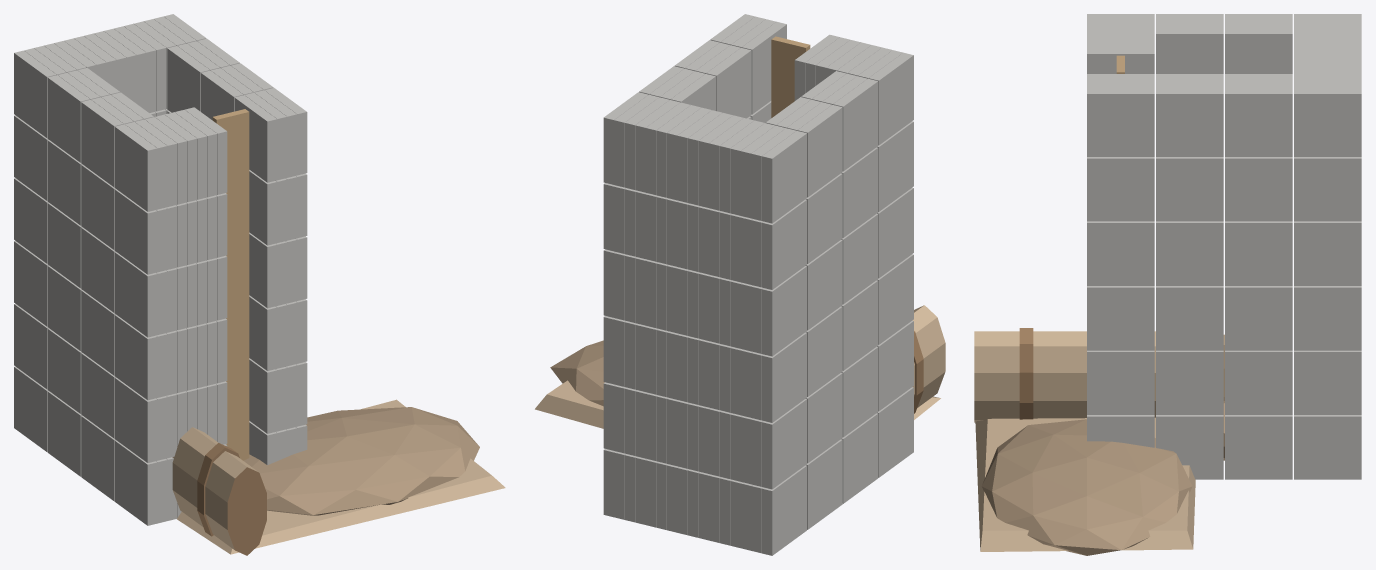
File: building_cut_stone_house_half.glb
3 renders of one model, left to right at view 1: azimuth 30°, elevation 25°; view 2: azimuth 150°, elevation 25°; view 3: azimuth 270°, elevation 25°, orthographic. The views are drawn at different scales.
Visible parts, largest first — view 1: building_cut_stone_house_half; view 2: building_cut_stone_house_half; view 3: building_cut_stone_house_half.
Part boxes in pixels (x1,y1,x2,y2): building_cut_stone_house_half: (14, 14, 505, 555); building_cut_stone_house_half: (535, 14, 945, 555); building_cut_stone_house_half: (974, 14, 1361, 555).
Size of the model in its own units: 1 by 1.14 by 1.
